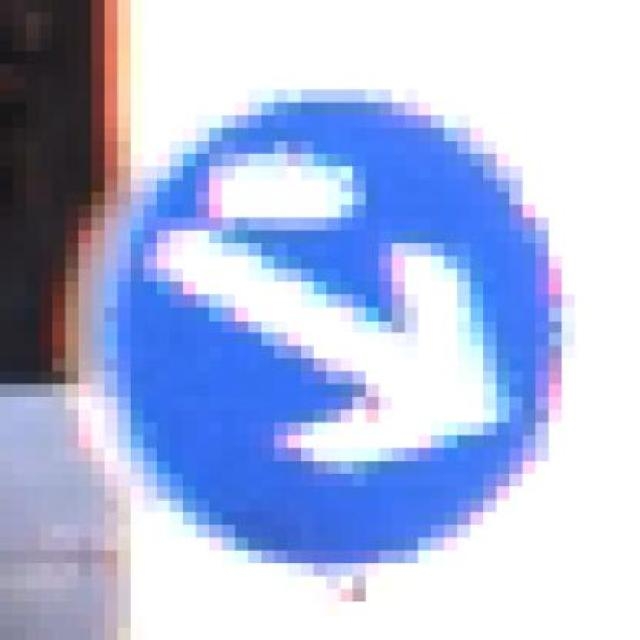Keep-Right: (78, 64, 574, 576)
